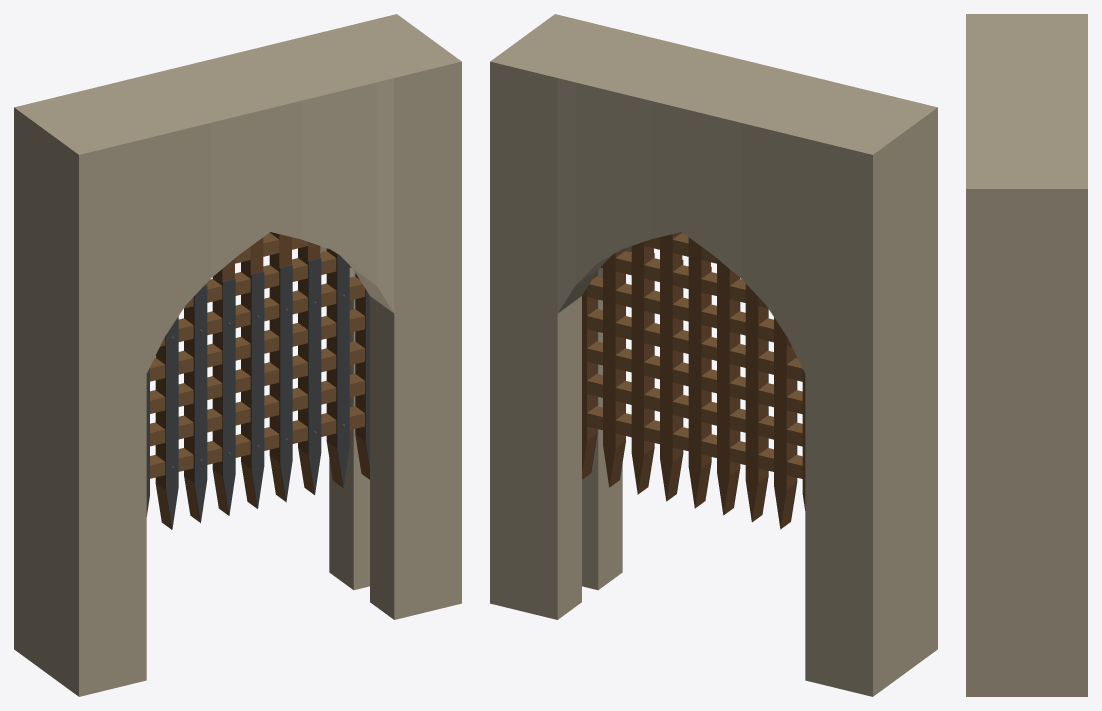
Rendered from NEW448_portcullis_module_LOD2.glb.
The picture shows the model from 3 angles, left to right: view 1: azimuth 30°, elevation 25°; view 2: azimuth 150°, elevation 25°; view 3: azimuth 270°, elevation 25°; orthographic projection. The views are drawn at different scales.
Visible parts, largest first — view 1: Stone_Jamb_Left, Stone_Jamb_Right, Stone_Receiving_Front, Grille_Closed_Oak_Lattice, Stone_Receiving_Reverse, Stone_Receiving_Top_Cap, Facing_Iron_05, Facing_Iron_03, Facing_Iron_06, Facing_Iron_04, Facing_Iron_07, Facing_Iron_08 (+2 smaller); view 2: Stone_Jamb_Left, Stone_Jamb_Right, Stone_Receiving_Reverse, Grille_Closed_Oak_Lattice, Stone_Receiving_Front, Stone_Receiving_Top_Cap; view 3: Stone_Jamb_Right, Stone_Receiving_Front, Stone_Receiving_Reverse, Stone_Receiving_Top_Cap, Stone_Jamb_Left.
Part boxes in pixels (bbox=[...]): Stone_Jamb_Left: bbox=[14, 91, 146, 696]; Stone_Jamb_Right: bbox=[329, 14, 461, 619]; Stone_Receiving_Front: bbox=[123, 60, 394, 373]; Grille_Closed_Oak_Lattice: bbox=[150, 232, 369, 529]; Stone_Receiving_Reverse: bbox=[82, 30, 353, 277]; Stone_Receiving_Top_Cap: bbox=[89, 44, 386, 124]; Facing_Iron_05: bbox=[250, 271, 264, 508]; Facing_Iron_03: bbox=[193, 285, 207, 522]; Facing_Iron_06: bbox=[279, 264, 292, 502]; Facing_Iron_04: bbox=[222, 278, 235, 515]; Facing_Iron_07: bbox=[308, 257, 321, 494]; Facing_Iron_08: bbox=[336, 253, 349, 488]; Stone_Jamb_Left: bbox=[805, 91, 937, 696]; Stone_Jamb_Right: bbox=[490, 14, 622, 619]; Stone_Receiving_Reverse: bbox=[557, 60, 828, 373]; Grille_Closed_Oak_Lattice: bbox=[582, 232, 805, 529]; Stone_Receiving_Front: bbox=[598, 30, 869, 277]; Stone_Receiving_Top_Cap: bbox=[565, 44, 862, 124]; Stone_Jamb_Right: bbox=[966, 158, 1087, 696]; Stone_Receiving_Front: bbox=[966, 45, 1011, 158]; Stone_Receiving_Reverse: bbox=[1042, 45, 1087, 158]; Stone_Receiving_Top_Cap: bbox=[1011, 37, 1042, 165]; Stone_Jamb_Left: bbox=[966, 14, 1087, 44].
Size of the model in its own units: 4.25 by 5.75 by 1.25.
